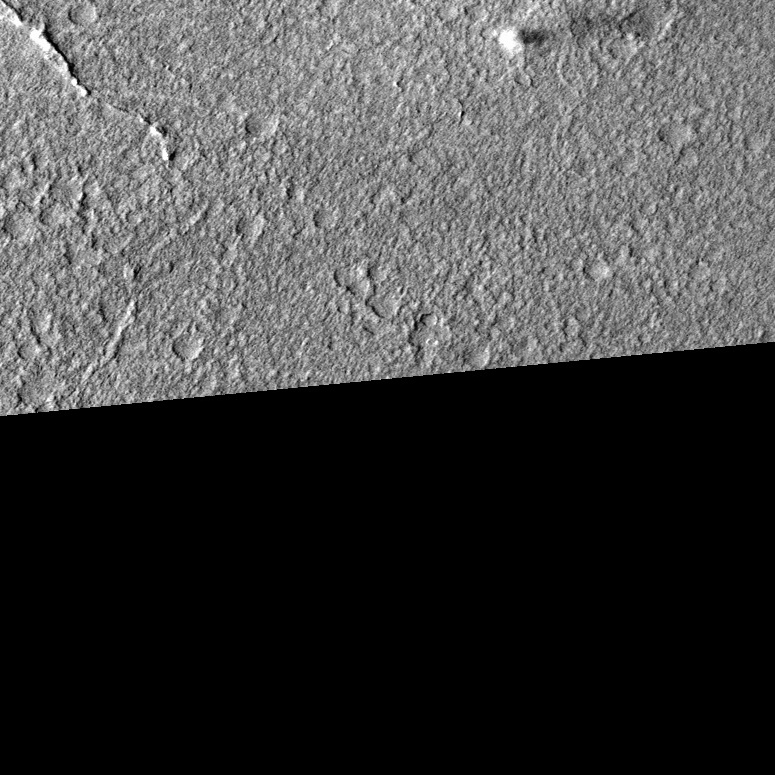dust_devil: (497, 25, 554, 59)
